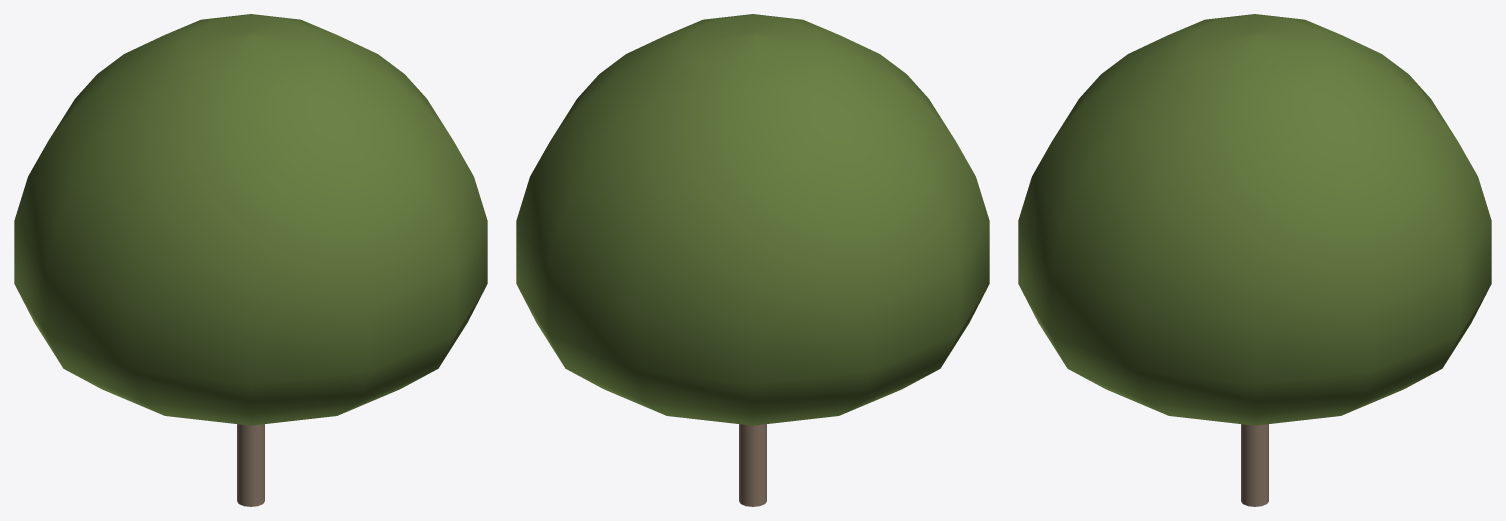
File: Japanese_Angelica_Tree_Analytical_0.obj
The picture shows the model from 3 angles, left to right: view 1: azimuth 30°, elevation 25°; view 2: azimuth 150°, elevation 25°; view 3: azimuth 270°, elevation 25°; orthographic projection.
Parts seen in each view (by area): view 1: AnalyticalCrown, AnalyticalTrunk; view 2: AnalyticalCrown, AnalyticalTrunk; view 3: AnalyticalCrown, AnalyticalTrunk.
Boxes of the visible parts, box(x1,y1,x2,y2) form: AnalyticalCrown: box(14, 14, 487, 425); AnalyticalTrunk: box(237, 424, 264, 506); AnalyticalCrown: box(516, 14, 989, 425); AnalyticalTrunk: box(739, 424, 766, 506); AnalyticalCrown: box(1018, 14, 1491, 425); AnalyticalTrunk: box(1241, 424, 1268, 506).
Size of the model in its own units: 3.68 by 4 by 3.68.
